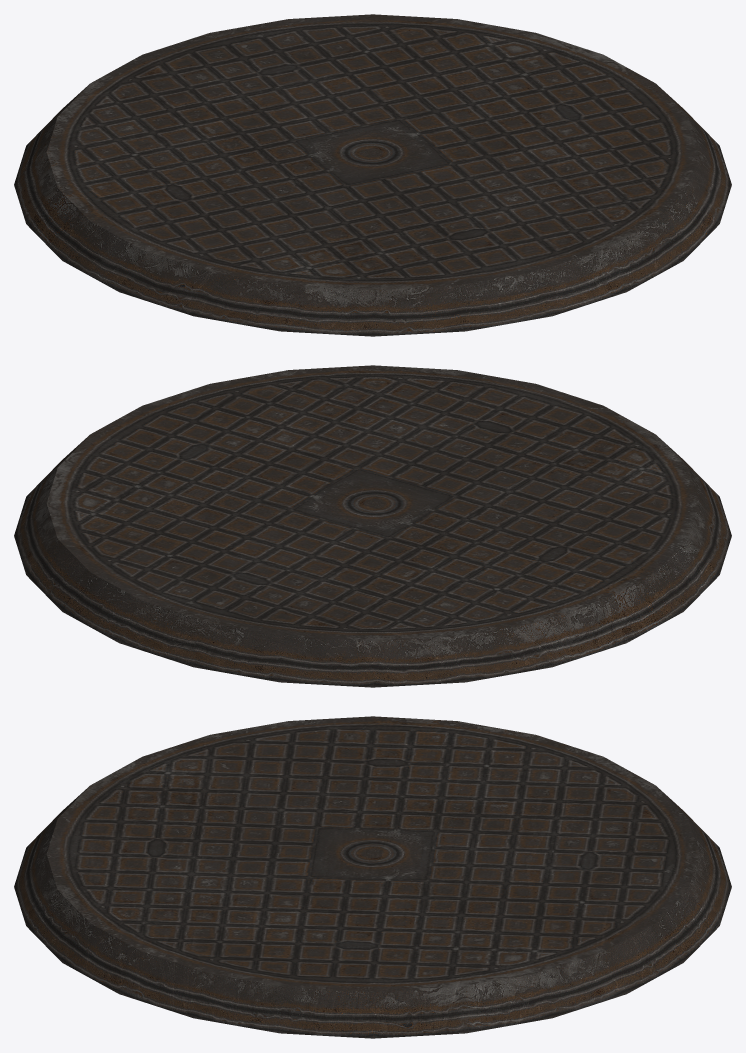
Rendered from manhole.glb.
3 views of the same model, one above another, from view 1: azimuth 30°, elevation 25°; view 2: azimuth 150°, elevation 25°; view 3: azimuth 270°, elevation 25° (orthographic).
Visible parts, largest first — view 1: manhole; view 2: manhole; view 3: manhole.
Part boxes in pixels (<box>): manhole: <box>14,14,731,336</box>; manhole: <box>14,365,731,687</box>; manhole: <box>14,716,731,1038</box>.
Size of the model in its own units: 264 by 13.23 by 264.
1 material, 1 textured.
